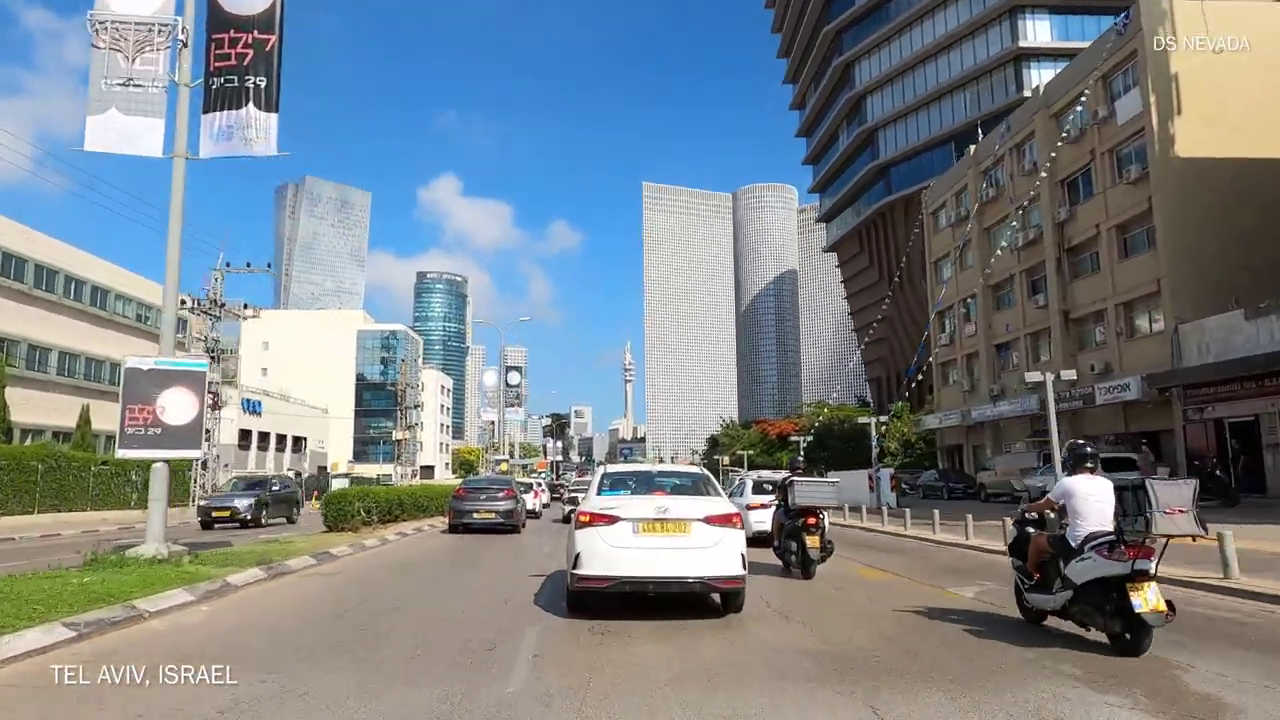licence: (473, 513, 491, 520), (478, 514, 493, 520), (210, 513, 226, 518)
